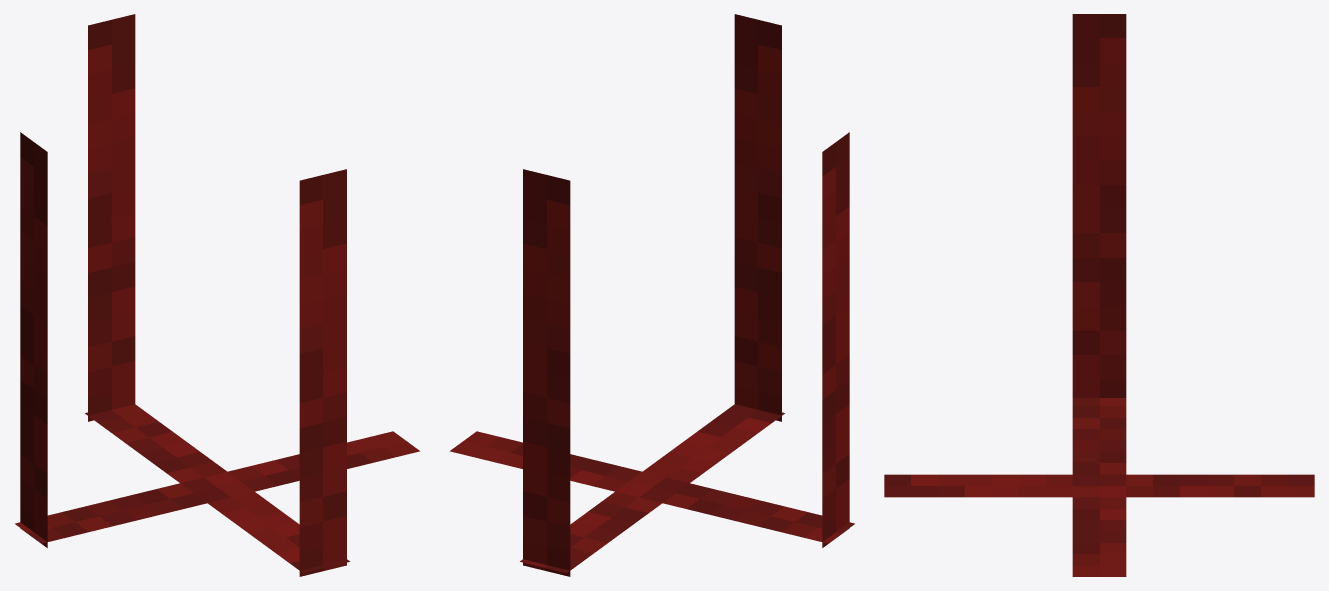
File: dust_1222.gltf
The picture shows the model from 3 angles, left to right: view 1: azimuth 30°, elevation 25°; view 2: azimuth 150°, elevation 25°; view 3: azimuth 270°, elevation 25°; orthographic projection.
Parts seen in each view (by area): view 1: dust_1222; view 2: dust_1222; view 3: dust_1222.
Boxes of the visible parts, <box> form: dust_1222: <box>15,14,419,576</box>; dust_1222: <box>450,14,854,576</box>; dust_1222: <box>884,14,1314,576</box>.
Size of the model in its own units: 1 by 1 by 1.
1 material, 1 textured.
